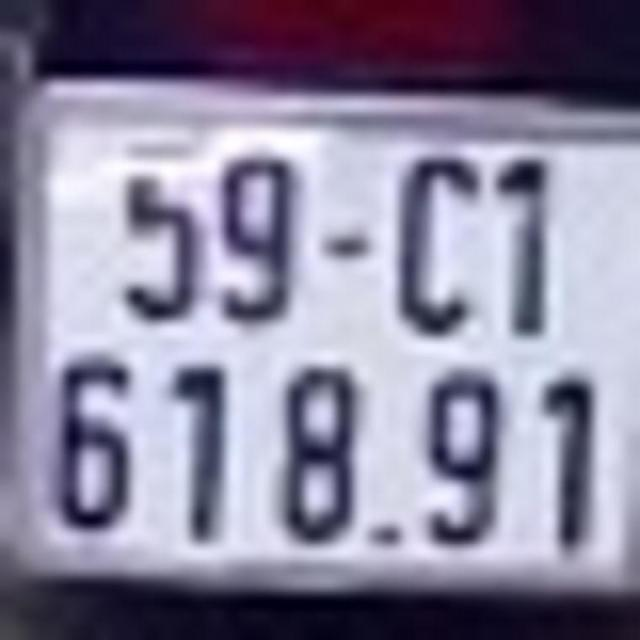1: (530, 373, 602, 552), (492, 148, 552, 343)
5: (122, 138, 200, 325)
6: (58, 351, 133, 528)
7: (174, 360, 224, 539)
8: (279, 356, 362, 543)
9: (422, 363, 502, 543), (217, 153, 290, 322)
K: (393, 150, 479, 342)
